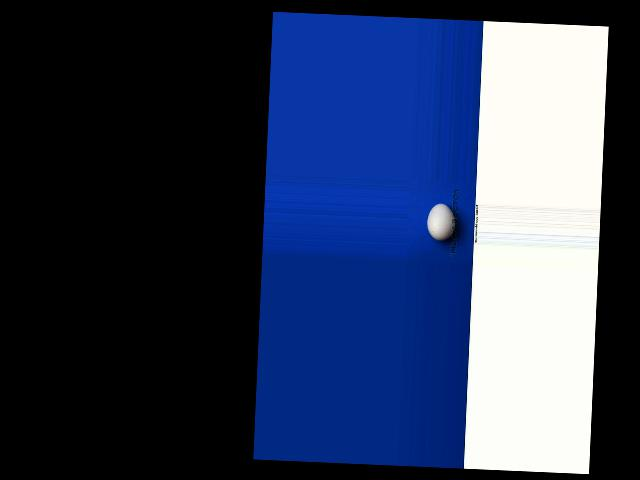egg: (426, 203, 457, 241)
